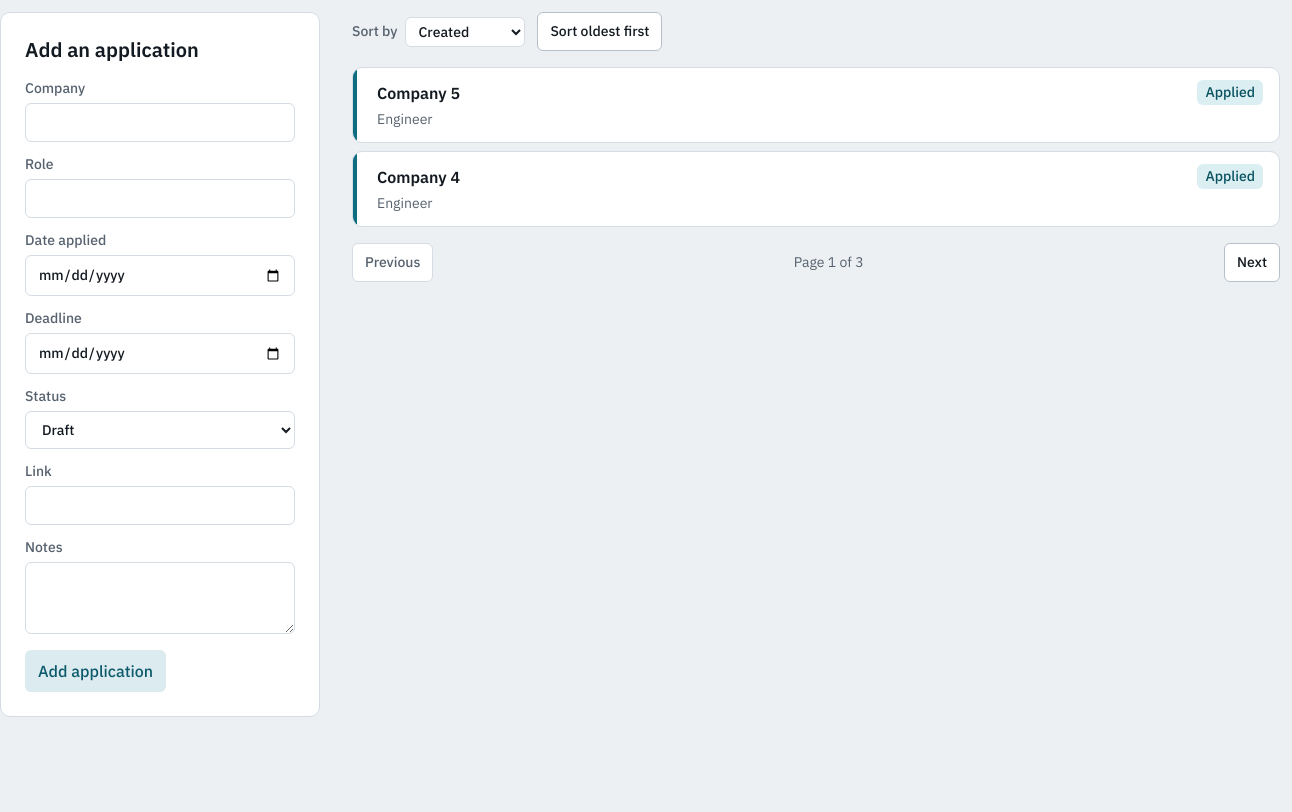
a list longer than a page renders one page at a time
This screenshot has width=1292, height=812.
Check: the button "Company 5 Engineer Applied" is shown, box [377,80,1263,130]
Check: the button "Company 4 Engineer Applied" is shown, box [377,164,1263,214]
Click the button "Next": (1252, 262) [1224,243,1280,282]
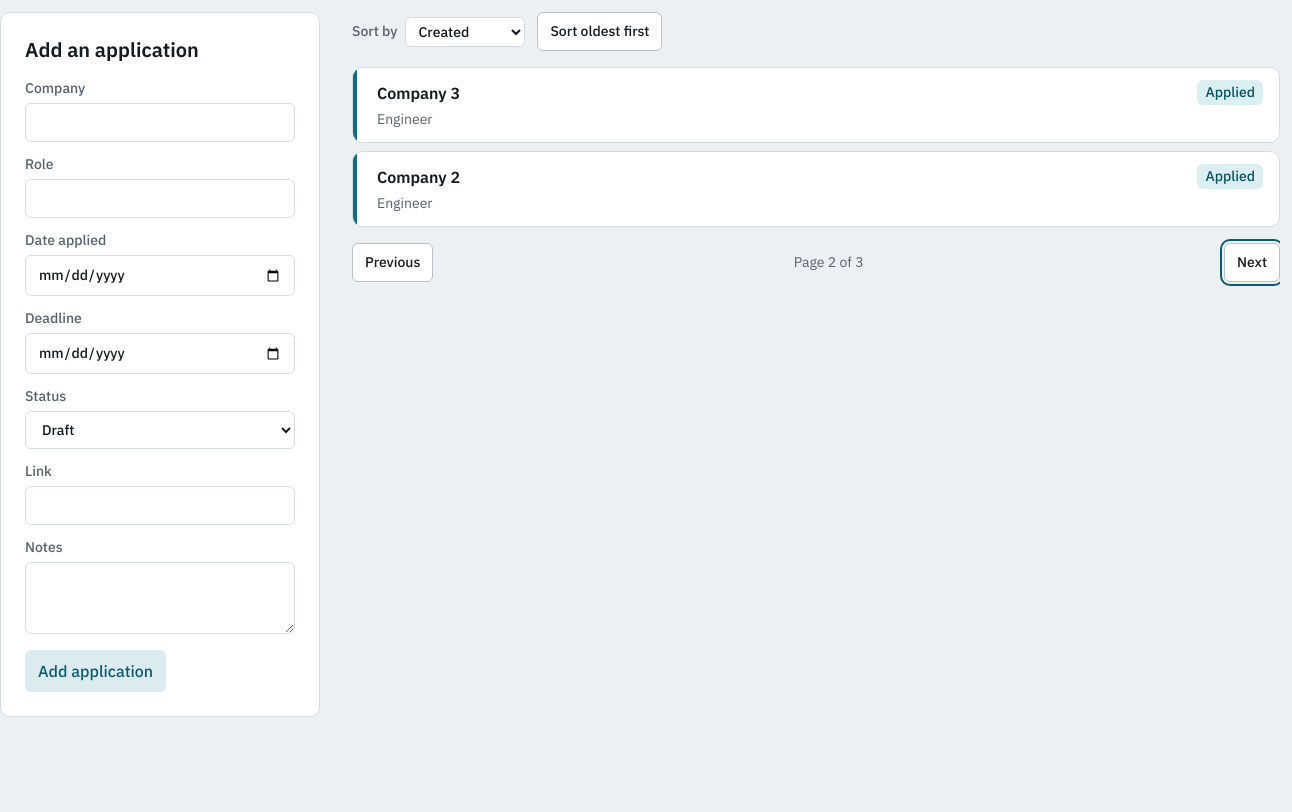
Check: the button "Company 3 Engineer Applied" is shown, box [377,80,1263,130]
Check: the button "Company 5" is gone
